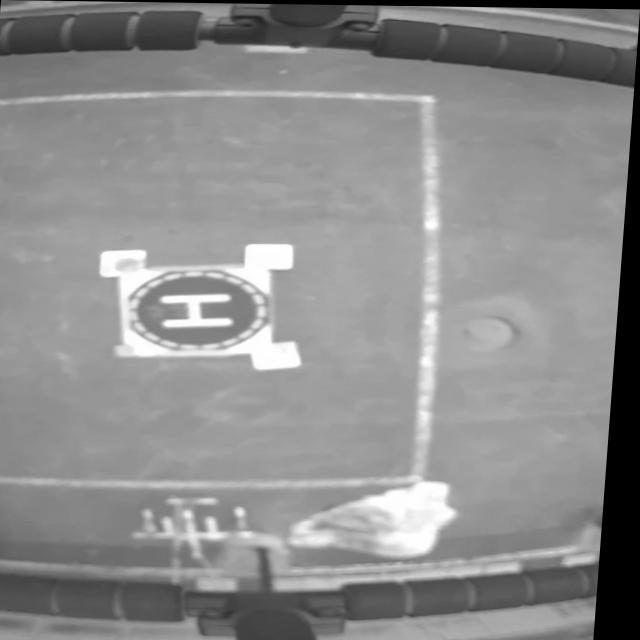Helipad: (161, 293, 236, 327)
